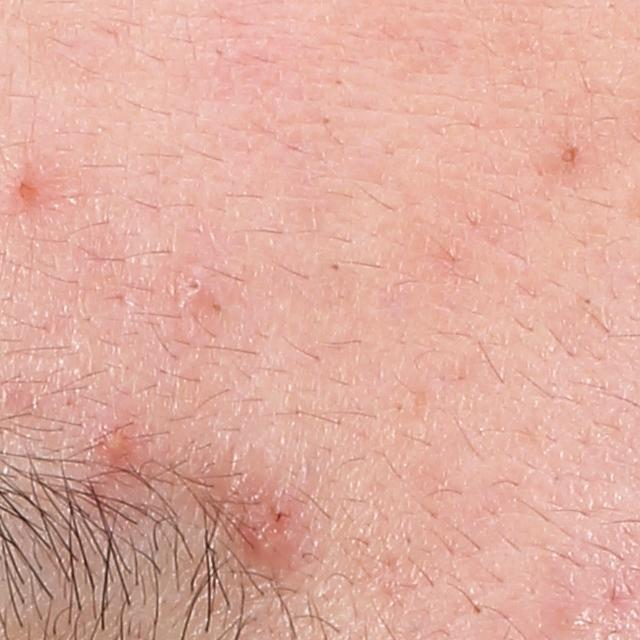comedo: (178, 268, 204, 301), (558, 142, 583, 167)
papule: (242, 509, 291, 566), (3, 164, 44, 209)
